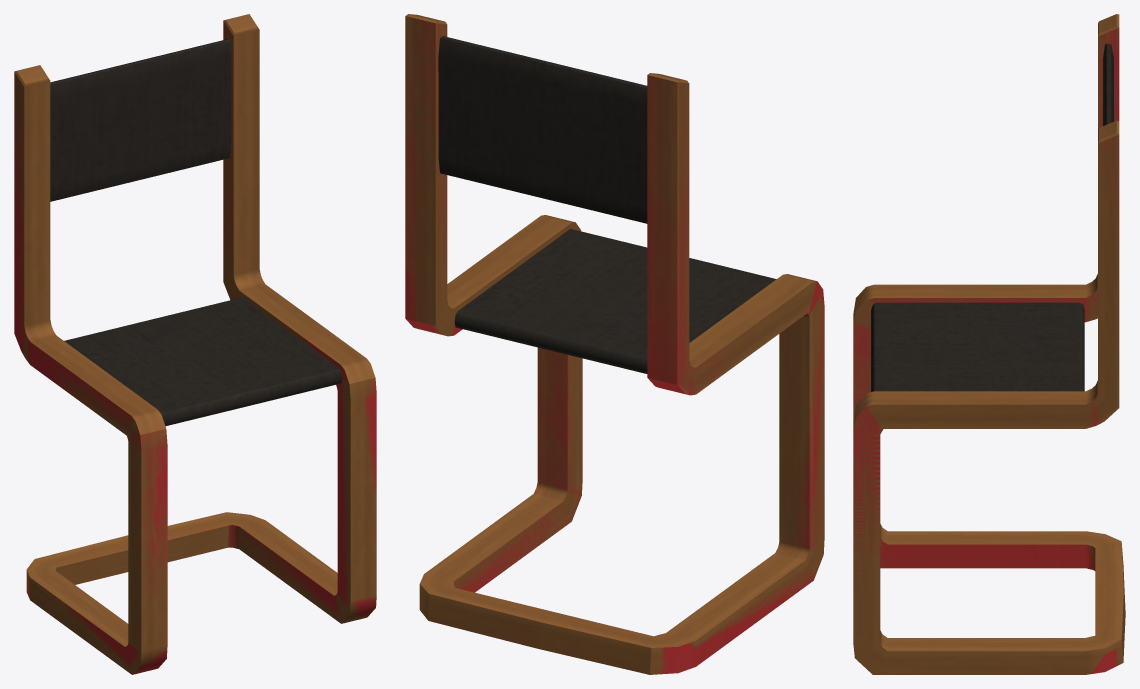
The model's file is Chairs_002.fbx.
3 views of the same model, side by side, from view 1: azimuth 30°, elevation 25°; view 2: azimuth 150°, elevation 25°; view 3: azimuth 270°, elevation 25° (orthographic). The views are drawn at different scales.
Parts seen in each view (by area): view 1: Chair_002, Chair_003; view 2: Chair_002, Chair_003; view 3: Chair_002, Chair_003.
Part boxes in pixels (x1,y1,x2,y2): Chair_002: [14, 14, 376, 674]; Chair_003: [14, 21, 376, 674]; Chair_002: [405, 14, 824, 674]; Chair_003: [405, 17, 824, 674]; Chair_002: [853, 14, 1125, 674]; Chair_003: [853, 28, 1119, 673].
Bounding box in the file's own units: 1.91 × 4.02 × 1.83.
